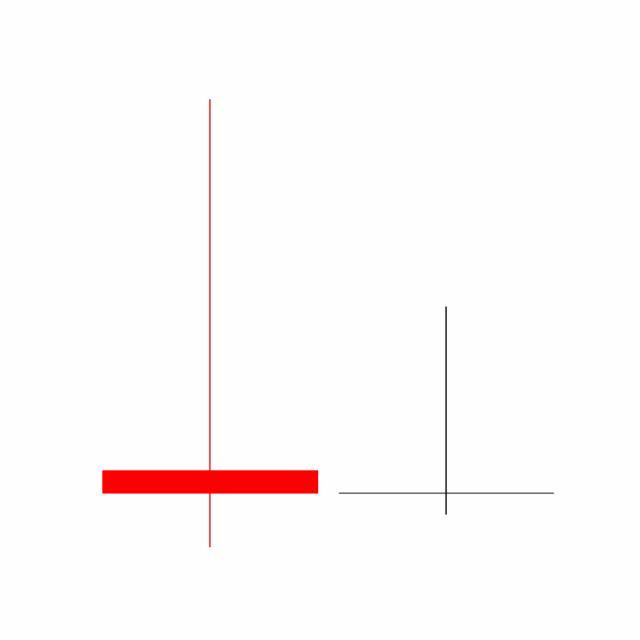Spinning Top: (328, 305, 566, 518)
